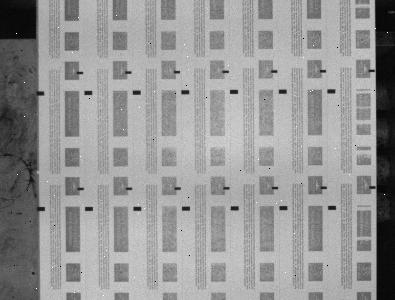qblock: (37, 206, 45, 211), (133, 90, 141, 95), (279, 89, 287, 94), (133, 206, 141, 211), (182, 206, 190, 211), (328, 205, 336, 210), (327, 89, 336, 93), (85, 207, 93, 211), (230, 90, 238, 94), (84, 91, 92, 95), (231, 206, 239, 210), (280, 206, 288, 210), (36, 91, 44, 95), (182, 90, 189, 94)
smallqblock: (174, 70, 181, 74), (77, 187, 84, 190), (222, 70, 229, 73), (369, 186, 376, 189), (223, 187, 230, 190), (271, 70, 278, 73), (125, 71, 132, 74), (175, 187, 181, 190), (369, 69, 375, 72), (321, 186, 327, 189), (126, 187, 132, 190), (272, 186, 278, 189), (77, 71, 83, 74), (320, 70, 326, 73)
